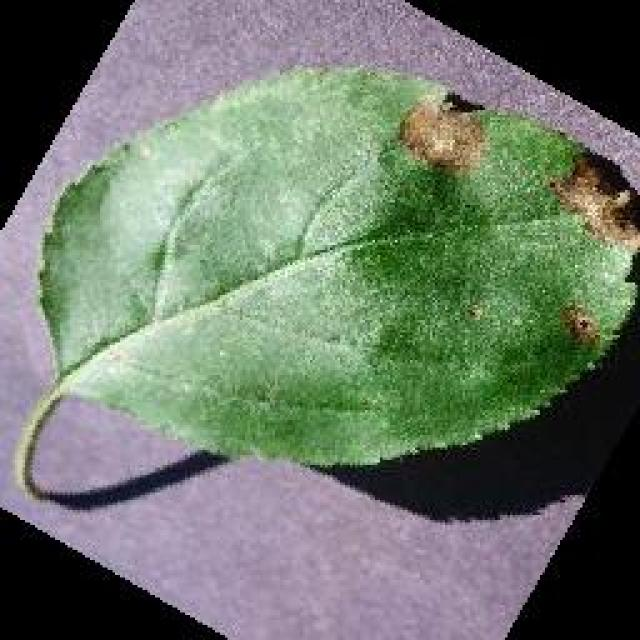Black_rot: (18, 60, 638, 508)
